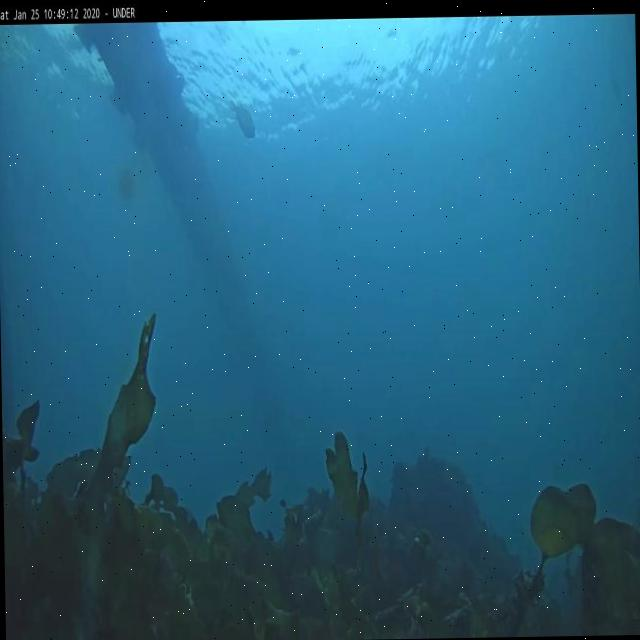fish: (232, 104, 256, 140)
